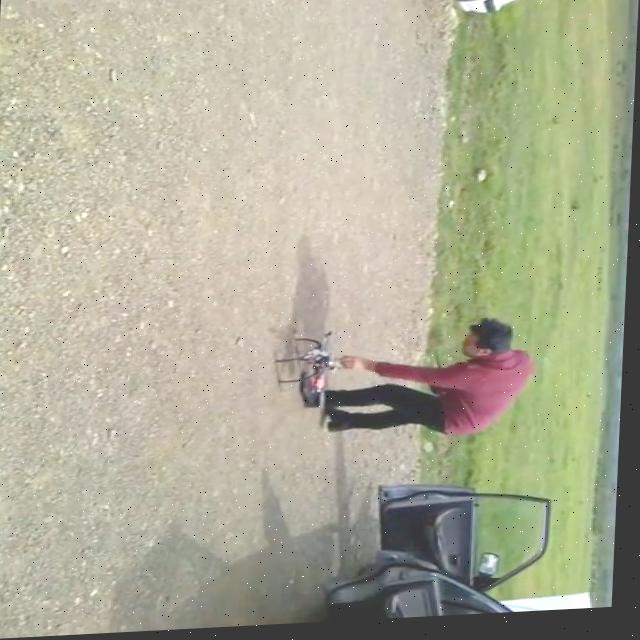drone: (279, 331, 350, 407)
